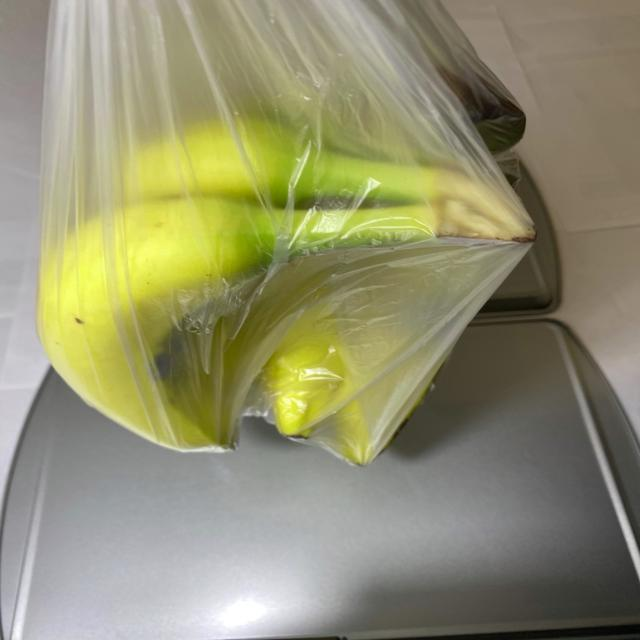banana: (34, 72, 541, 472)
